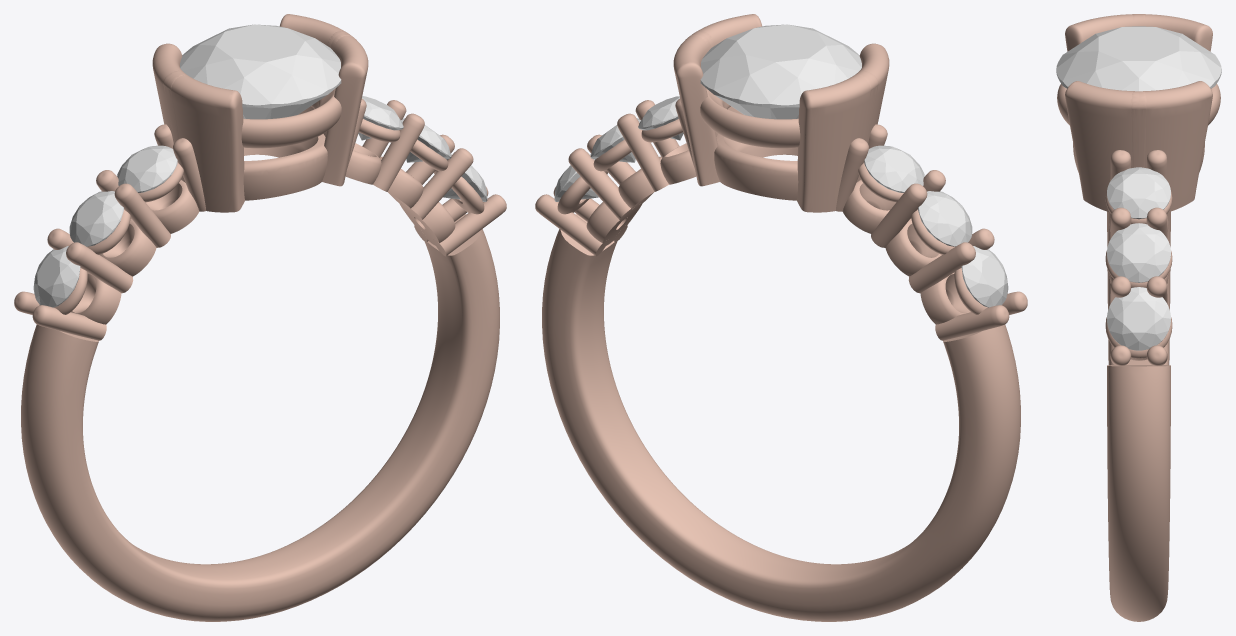
File: diamond-round-rosegold-halfmoonbezel-straightband-3stone.glb
3 renders of one model, left to right at view 1: azimuth 30°, elevation 25°; view 2: azimuth 150°, elevation 25°; view 3: azimuth 270°, elevation 25°, orthographic. The views are drawn at different scales.
Parts seen in each view (by area): view 1: metal, stone, side.001, side, side.002, side.003, side.004; view 2: metal, stone, side.001, side, side.002, side.003, side.004; view 3: metal, stone, side.005, side.004, side.003.
Boxes of the visible parts, <box> form: metal: <box>14,14,506,621</box>; stone: <box>180,24,341,119</box>; side.001: <box>69,191,123,246</box>; side: <box>117,145,177,192</box>; side.002: <box>33,246,80,307</box>; side.003: <box>358,96,403,140</box>; side.004: <box>401,118,451,162</box>; metal: <box>535,14,1027,621</box>; stone: <box>700,24,861,119</box>; side.001: <box>918,191,972,246</box>; side: <box>864,145,924,192</box>; side.002: <box>961,246,1008,307</box>; side.003: <box>638,96,683,140</box>; side.004: <box>590,118,640,162</box>; metal: <box>1057,14,1220,621</box>; stone: <box>1056,26,1221,91</box>; side.005: <box>1107,287,1170,350</box>; side.004: <box>1107,223,1170,282</box>; side.003: <box>1107,167,1170,219</box>.
Bounding box in the file's own units: 20.58 × 23.81 × 6.44.
